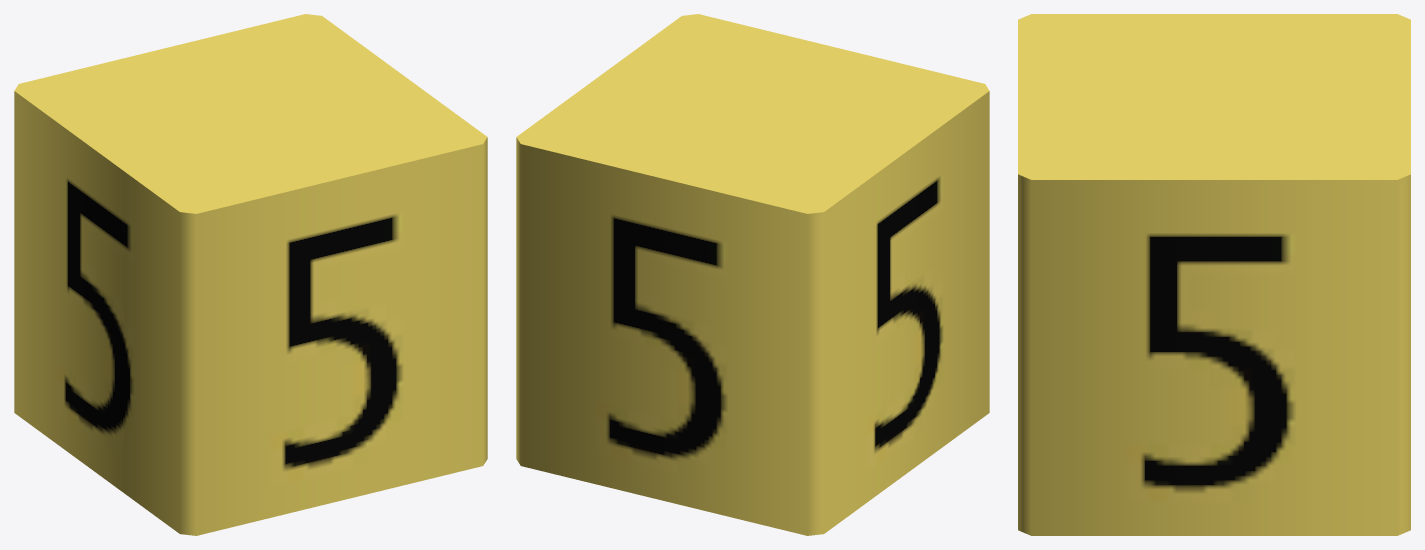
File: block5.dae
3 views of the same model, side by side, from view 1: azimuth 30°, elevation 25°; view 2: azimuth 150°, elevation 25°; view 3: azimuth 270°, elevation 25° (orthographic). The views are drawn at different scales.
Visible parts, largest first — view 1: pCube28; view 2: pCube28; view 3: pCube28.
Part boxes in pixels (x1,y1,x2,y2): pCube28: [14, 14, 487, 535]; pCube28: [516, 14, 989, 535]; pCube28: [1018, 14, 1410, 535].
Bounding box in the file's own units: 0.4263 × 0.4263 × 0.4263.
Materials: 1 (1 with a texture image).
